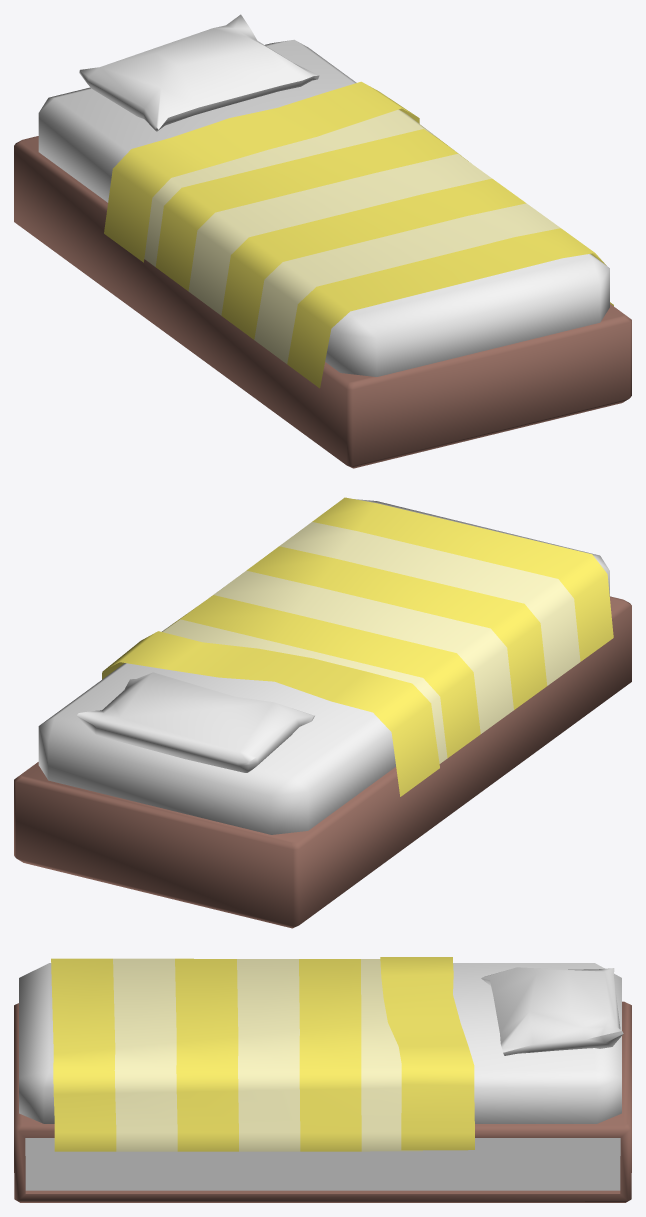
Rendered from bed_011.glb.
The picture shows the model from 3 angles, top to bottom: view 1: azimuth 30°, elevation 25°; view 2: azimuth 150°, elevation 25°; view 3: azimuth 270°, elevation 25°; orthographic projection. The views are drawn at different scales.
Parts seen in each view (by area): view 1: bed_011; view 2: bed_011; view 3: bed_011.
Boxes of the visible parts, x1=… form: bed_011: x1=14, y1=14, x2=631, y2=468; bed_011: x1=14, y1=497, x2=631, y2=928; bed_011: x1=14, y1=957, x2=631, y2=1202.
Size of the model in its own units: 1.12 by 0.6228 by 2.21.
Materials: 1 (1 with a texture image).
